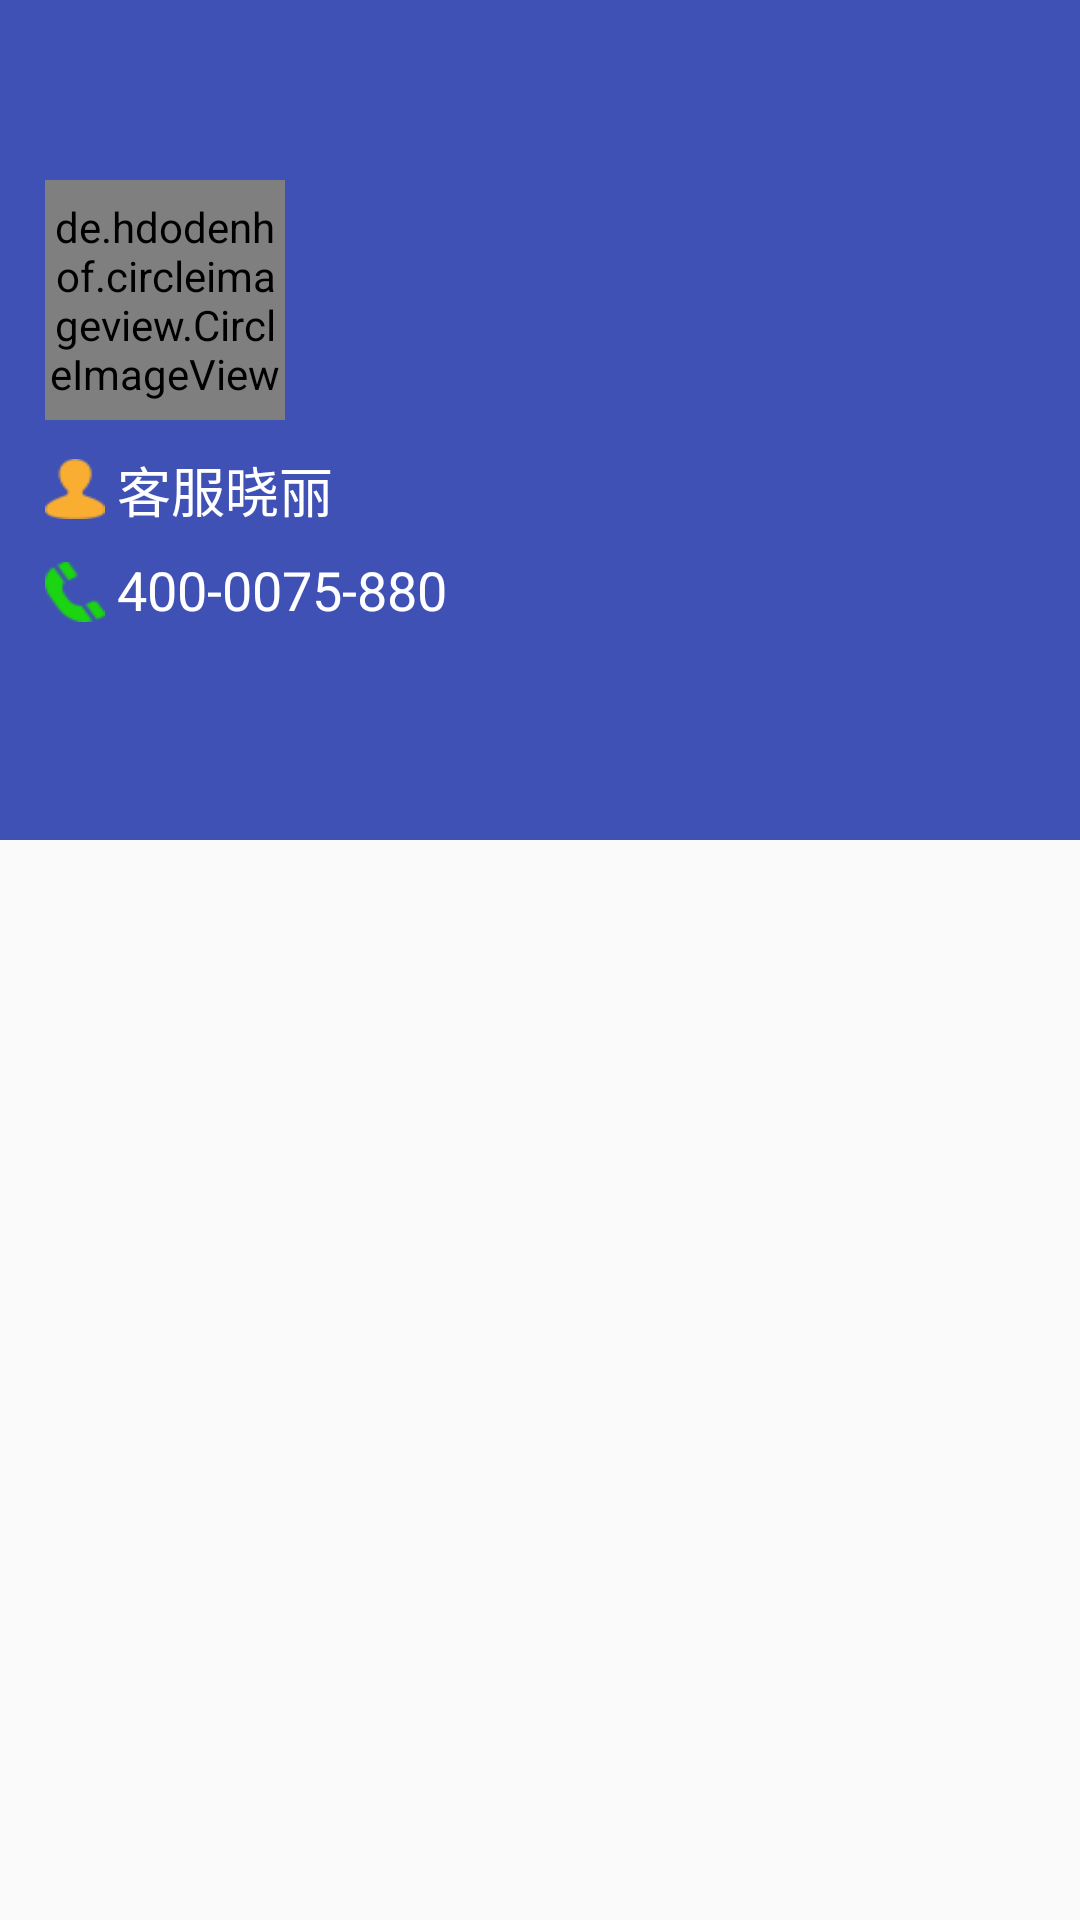

Screen size 1080x1920. Icon name, then its center in pixels as [x,y]:
call: [75,592]
user: [75,489]
